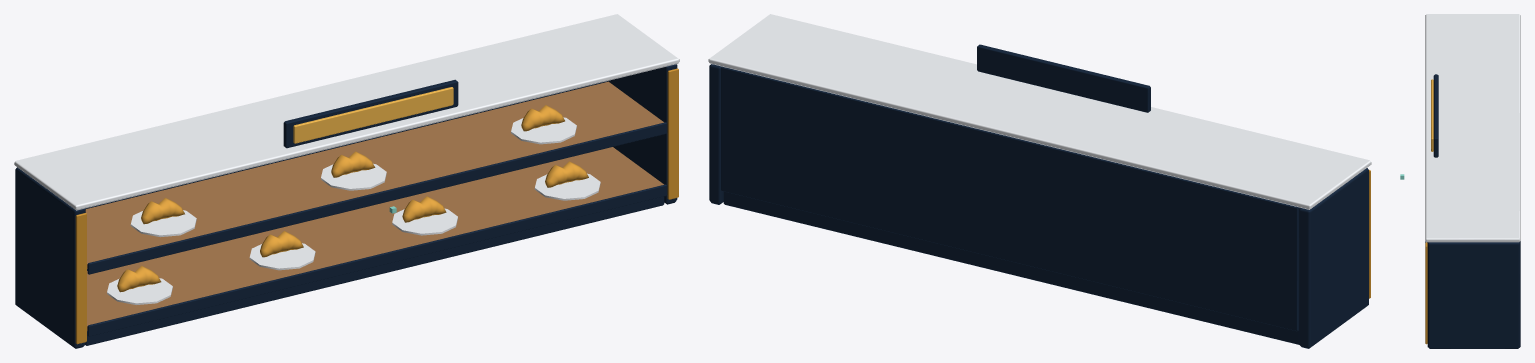
The model's file is CM_Fixture_PremiumShelf.fbx.
3 views of the same model, side by side, from view 1: azimuth 30°, elevation 25°; view 2: azimuth 150°, elevation 25°; view 3: azimuth 270°, elevation 25° (orthographic). The views are drawn at different scales.
Parts seen in each view (by area): view 1: Body, PriceTag, Item7, Item4, Item5, Item2, Item3, Item6, Item1; view 2: Body; view 3: Body, PriceTag.
Part boxes in pixels (box(x1,y1,x2,y2)): Body: box(14, 14, 679, 348); PriceTag: box(293, 87, 453, 143); Item7: box(511, 105, 576, 144); Item4: box(534, 161, 600, 200); Item5: box(130, 198, 196, 237); Item2: box(249, 231, 315, 270); Item3: box(392, 196, 457, 235); Item6: box(321, 151, 386, 190); Item1: box(107, 265, 172, 304); Body: box(708, 14, 1371, 348); Body: box(1425, 14, 1520, 348); PriceTag: box(1431, 79, 1433, 151).
Bounding box in the file's own units: 28 × 6.3 × 7.6.
1 material, 1 textured.
